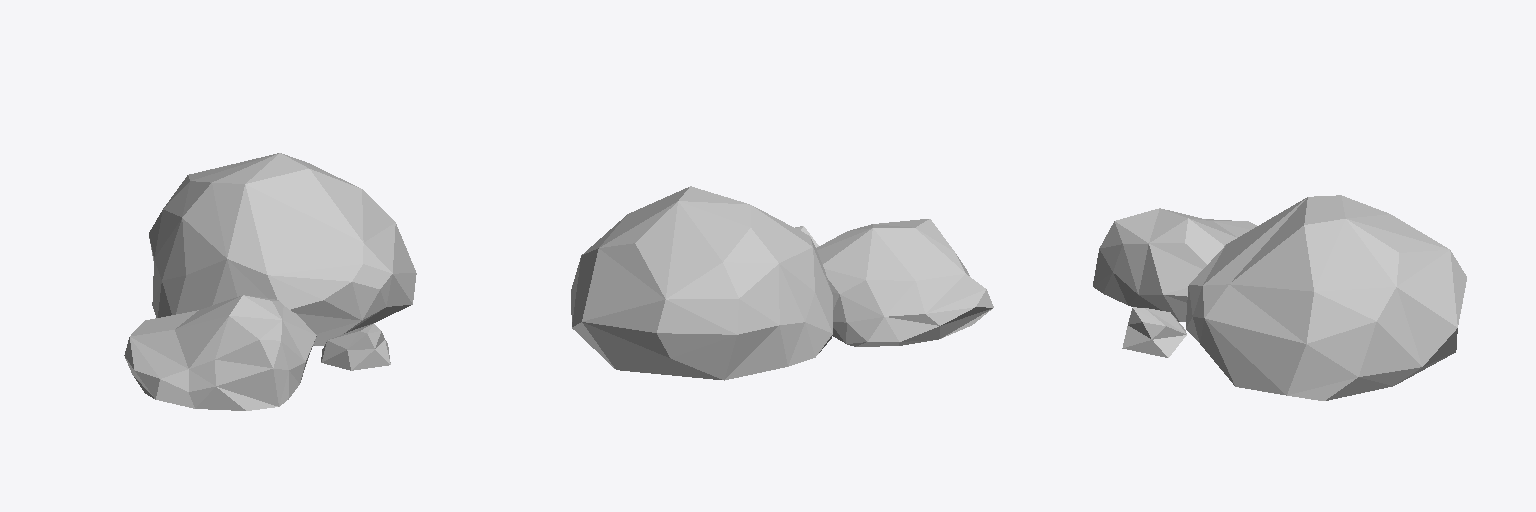
Rendered from small-rock.obj.
The picture shows the model from 3 angles: view 1: azimuth 30°, elevation 25°; view 2: azimuth 150°, elevation 25°; view 3: azimuth 270°, elevation 25°; orthographic projection.
Visible parts, largest first — view 1: Stone_group_average_Icosphere.022; view 2: Stone_group_average_Icosphere.022; view 3: Stone_group_average_Icosphere.022.
Part boxes in pixels (bbox=[...]): Stone_group_average_Icosphere.022: bbox=[124, 153, 416, 410]; Stone_group_average_Icosphere.022: bbox=[571, 186, 993, 380]; Stone_group_average_Icosphere.022: bbox=[1093, 195, 1466, 400].
Size of the model in its own units: 2.94 by 1.11 by 2.9.